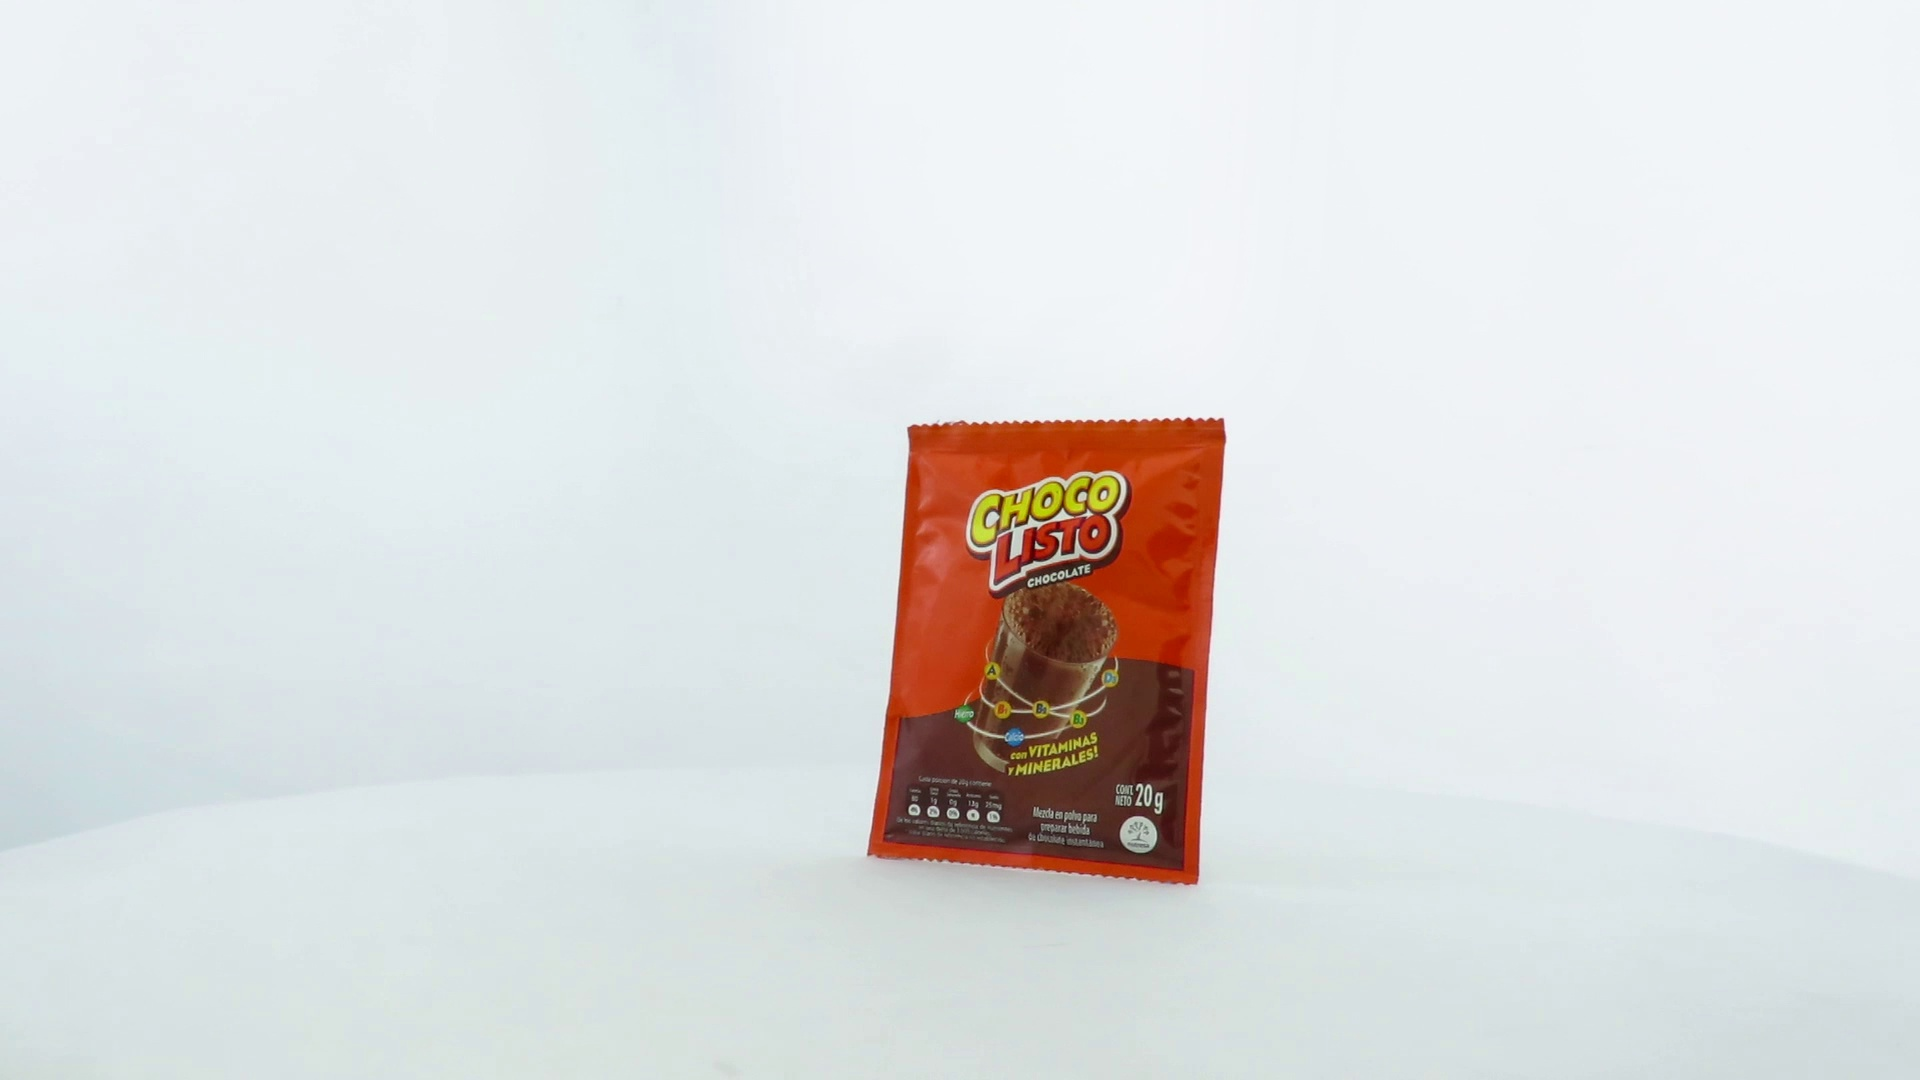COL0170103SOB02000: (862, 411, 1232, 891)
